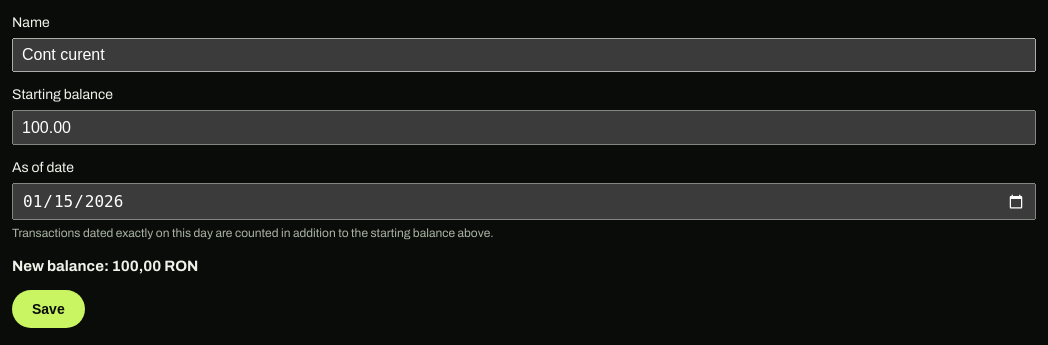
Test: AccountCorrectionForm › updates the live preview when the starting balance is edited
The width and height of the screenshot is (1048, 345).
Replace the text in the number field labelled "Starting balance" with "500". click: (524, 128)
box: x1=12 y1=110 x2=1036 y2=145
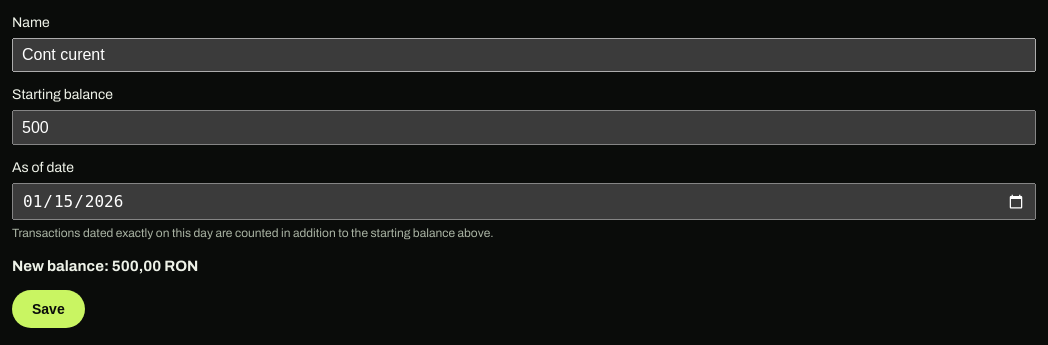
Expected: the text with test id "balance-preview" shows "500,00", x1=112 y1=258 x2=198 y2=274
